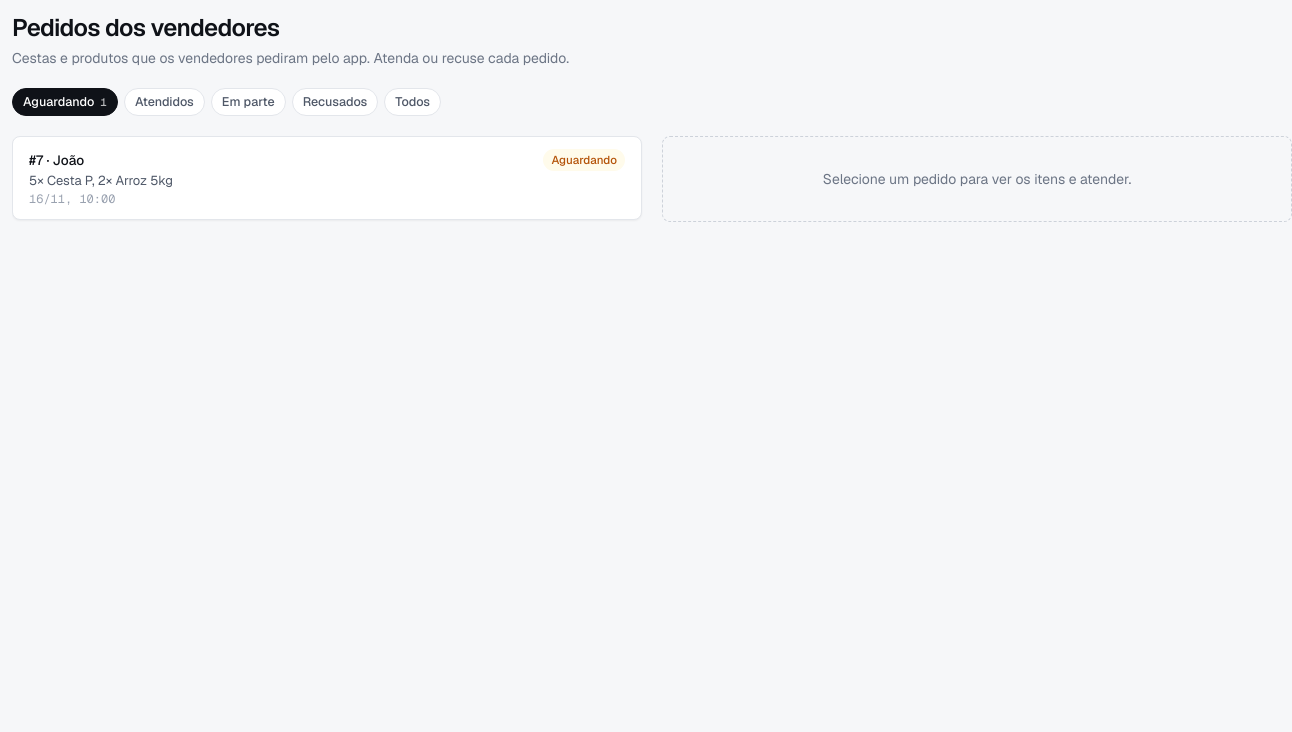
PedidosVendedores › liberar envia as quantidades de cada item (atendimento parcial)
The image size is (1292, 732).
Later steps or results of the test are not shown.
Click the text "#7 · João" at point(57, 160), box [29, 150, 84, 170]
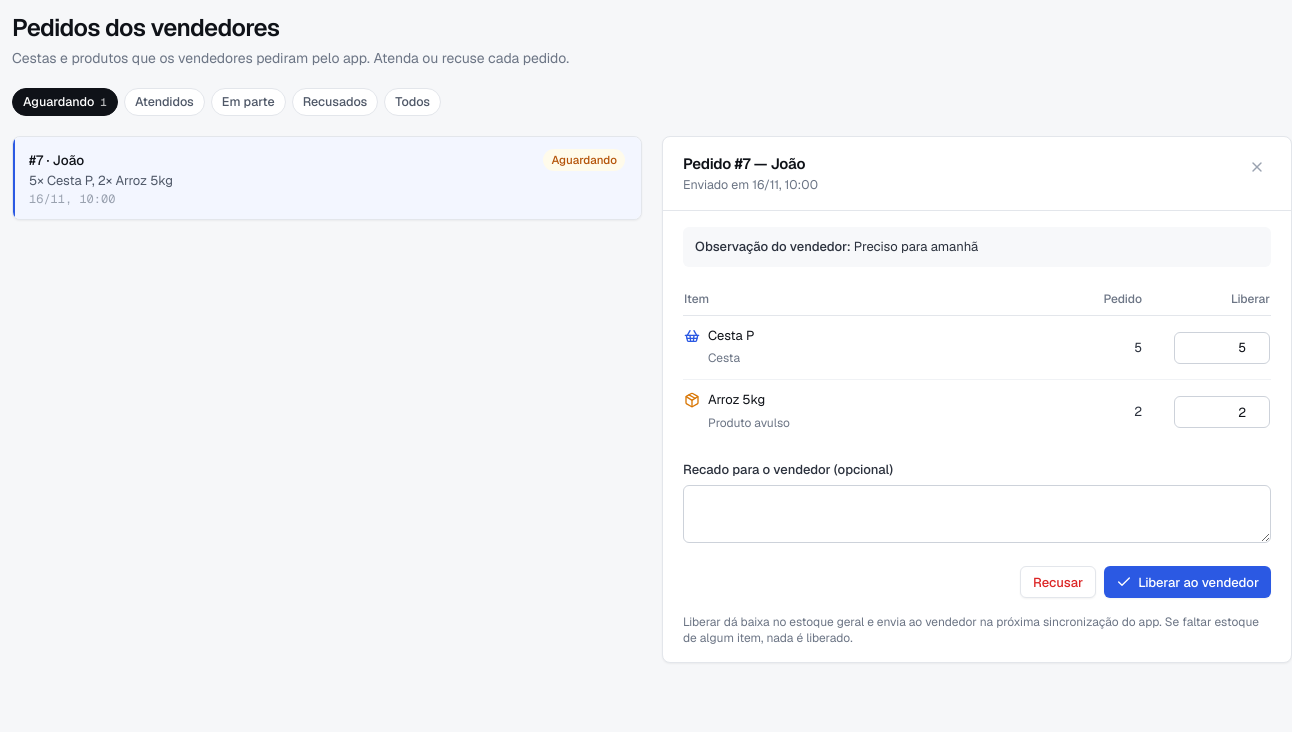
Replace the text in the number field named "Quantidade a liberar de Cesta P" with "3" at point(1222, 348), box [1174, 332, 1270, 364]
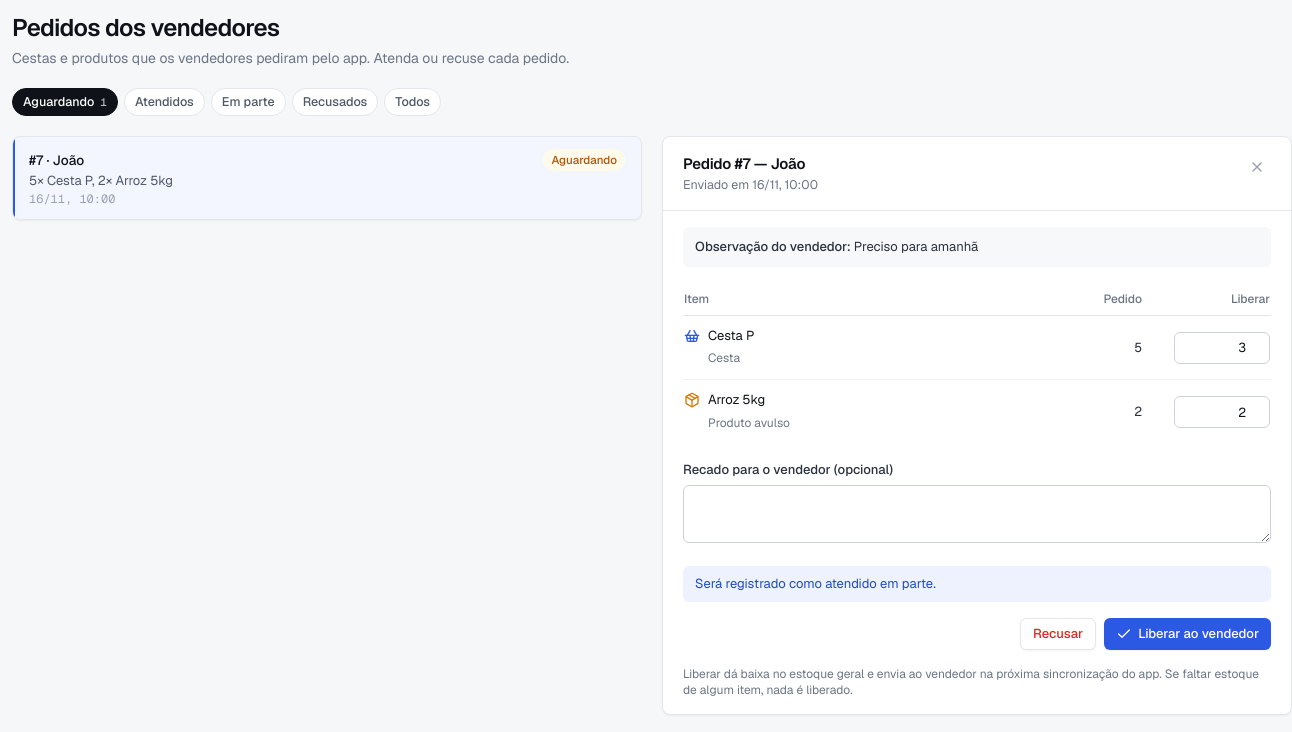
Expected: the text "Será registrado como atendido em parte." is shown, [683, 566, 1271, 602]
